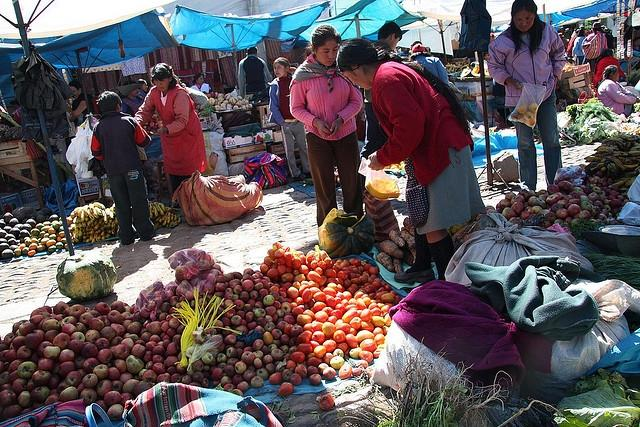apple: (126, 354, 144, 376), (82, 357, 100, 375), (17, 362, 37, 378), (96, 380, 113, 398), (99, 326, 116, 341), (42, 319, 60, 333), (84, 330, 101, 344), (12, 336, 26, 352), (68, 340, 84, 354), (147, 321, 162, 335), (44, 330, 59, 344), (57, 382, 71, 396), (60, 316, 76, 328), (62, 324, 78, 336), (152, 345, 166, 356), (291, 326, 303, 338), (122, 319, 133, 332), (264, 322, 276, 333), (226, 365, 236, 378), (336, 303, 346, 315), (215, 282, 227, 292), (240, 292, 250, 302), (264, 314, 273, 324), (170, 296, 179, 306), (159, 312, 169, 321), (275, 365, 286, 373), (109, 346, 117, 356), (288, 346, 298, 354)
banana: (613, 156, 637, 165), (154, 202, 164, 215), (88, 209, 96, 221), (78, 206, 84, 218), (89, 204, 95, 214), (111, 217, 116, 229), (154, 204, 158, 218), (94, 223, 100, 231), (96, 229, 102, 235), (72, 230, 76, 238), (90, 233, 94, 241), (170, 214, 174, 222), (86, 225, 90, 232), (165, 206, 172, 210), (101, 221, 105, 227), (90, 223, 94, 228), (102, 209, 105, 215), (82, 235, 86, 239), (174, 221, 176, 224)
